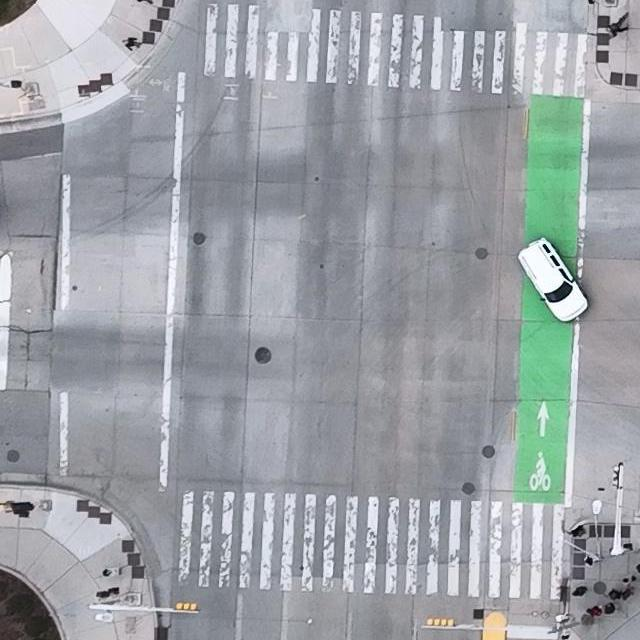car: (516, 236, 590, 323)
